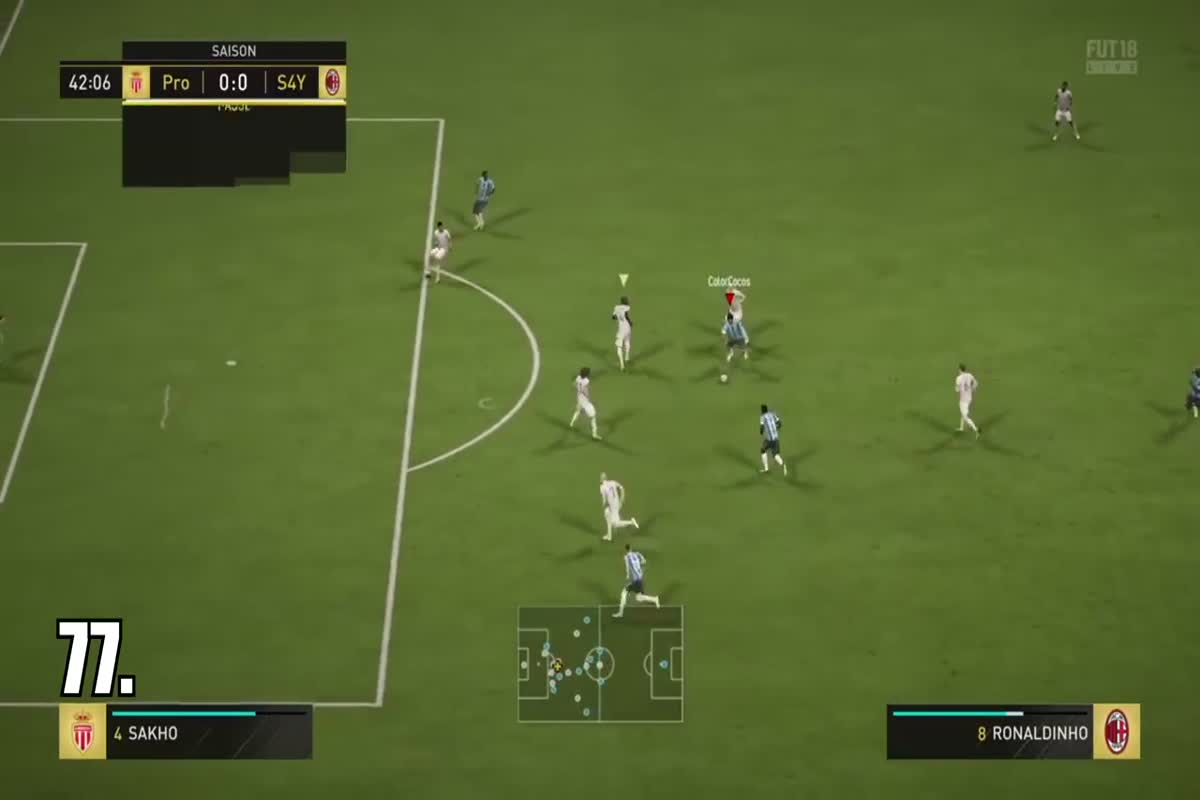ball: (709, 369, 739, 390)
